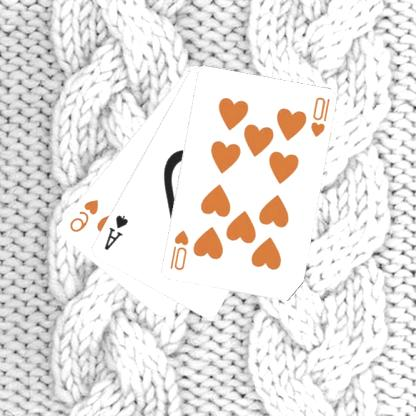10H: (309, 94, 333, 140), (168, 228, 192, 272)
9H: (67, 196, 102, 234)
AS: (103, 211, 131, 252)
